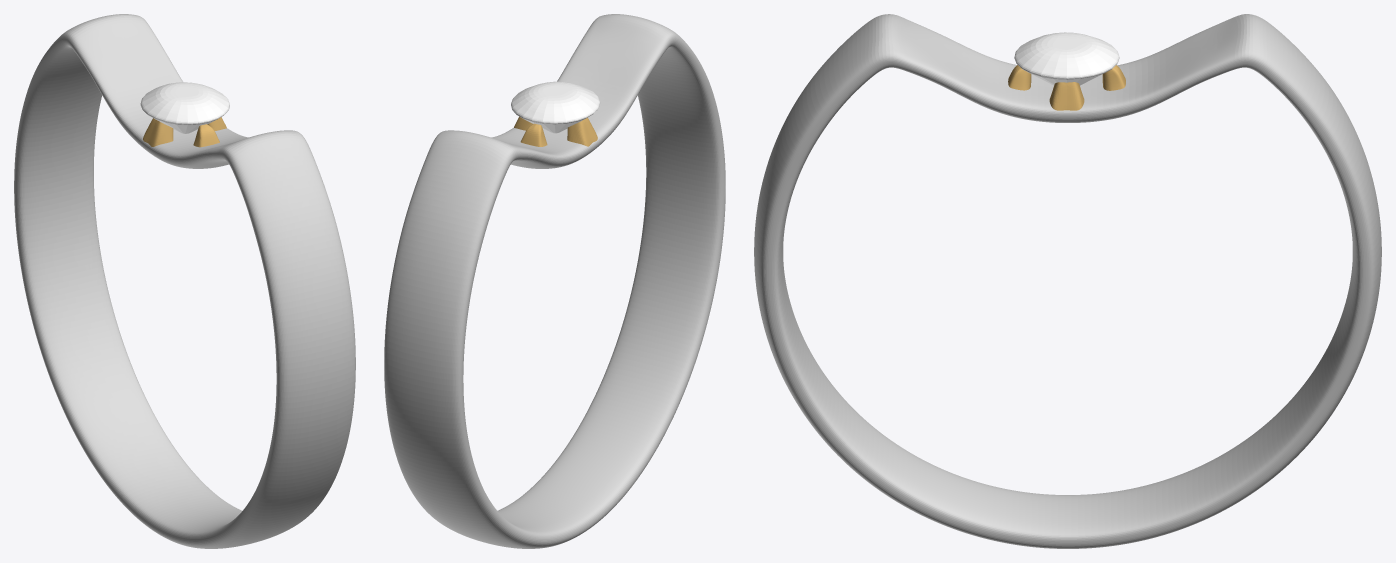
The model's file is ringVariation3.glb.
The picture shows the model from 3 angles, left to right: view 1: azimuth 30°, elevation 25°; view 2: azimuth 150°, elevation 25°; view 3: azimuth 270°, elevation 25°; orthographic projection. The views are drawn at different scales.
Visible parts, largest first — view 1: R7, R3, R6; view 2: R7, R3, R6; view 3: R7, R3, R6.
Boxes of the visible parts, bbox=[...] form: R7: bbox=[14, 14, 355, 548]; R3: bbox=[140, 82, 229, 133]; R6: bbox=[143, 117, 226, 147]; R7: bbox=[384, 14, 725, 548]; R3: bbox=[511, 81, 600, 133]; R6: bbox=[514, 116, 597, 146]; R7: bbox=[754, 14, 1381, 548]; R3: bbox=[1014, 32, 1119, 85]; R6: bbox=[1008, 65, 1125, 110].
Size of the model in its own units: 0.221 by 1.24 by 1.38.
